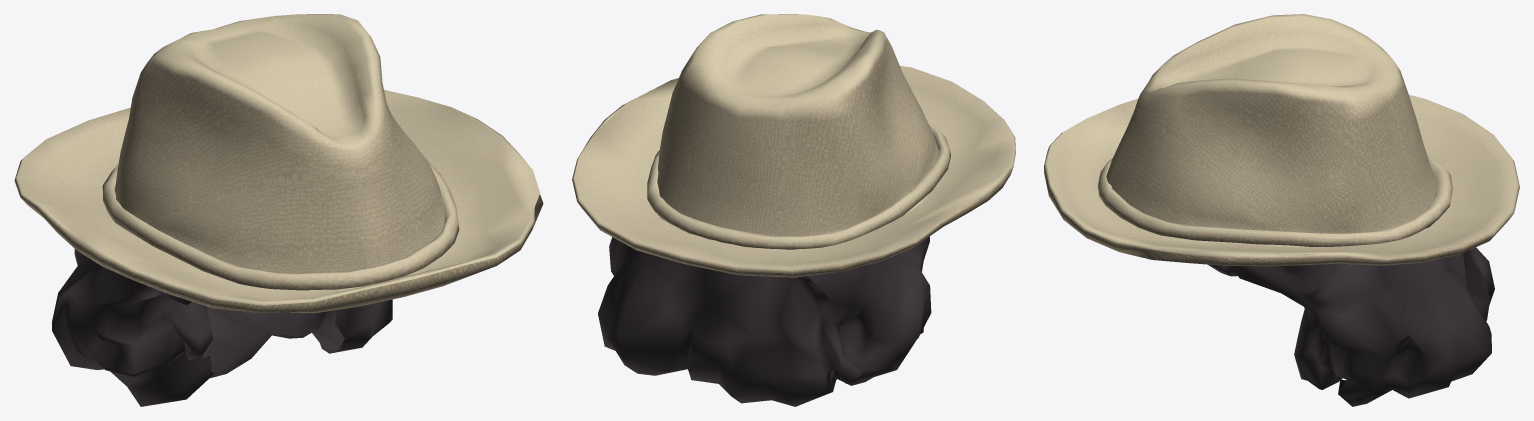
3 views of the same model, side by side, from view 1: azimuth 30°, elevation 25°; view 2: azimuth 150°, elevation 25°; view 3: azimuth 270°, elevation 25° (orthographic). The views are drawn at different scales.
Parts seen in each view (by area): view 1: Wolf3D_Headwear.032; view 2: Wolf3D_Headwear.032; view 3: Wolf3D_Headwear.032.
Boxes of the visible parts, left/top/right/bottom form: Wolf3D_Headwear.032: left=14, top=14, right=543, bottom=406; Wolf3D_Headwear.032: left=572, top=14, right=1015, bottom=406; Wolf3D_Headwear.032: left=1044, top=14, right=1519, bottom=406.
Bounding box in the file's own units: 0.3069 × 0.2483 × 0.3367.
1 material, 1 textured.
